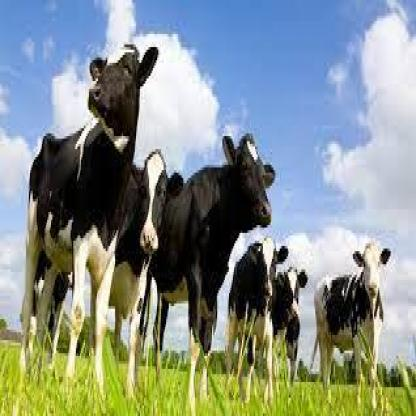cow: (19, 42, 159, 395), (154, 131, 275, 416), (90, 150, 183, 399), (313, 240, 392, 411), (227, 233, 288, 416), (277, 267, 308, 405)
